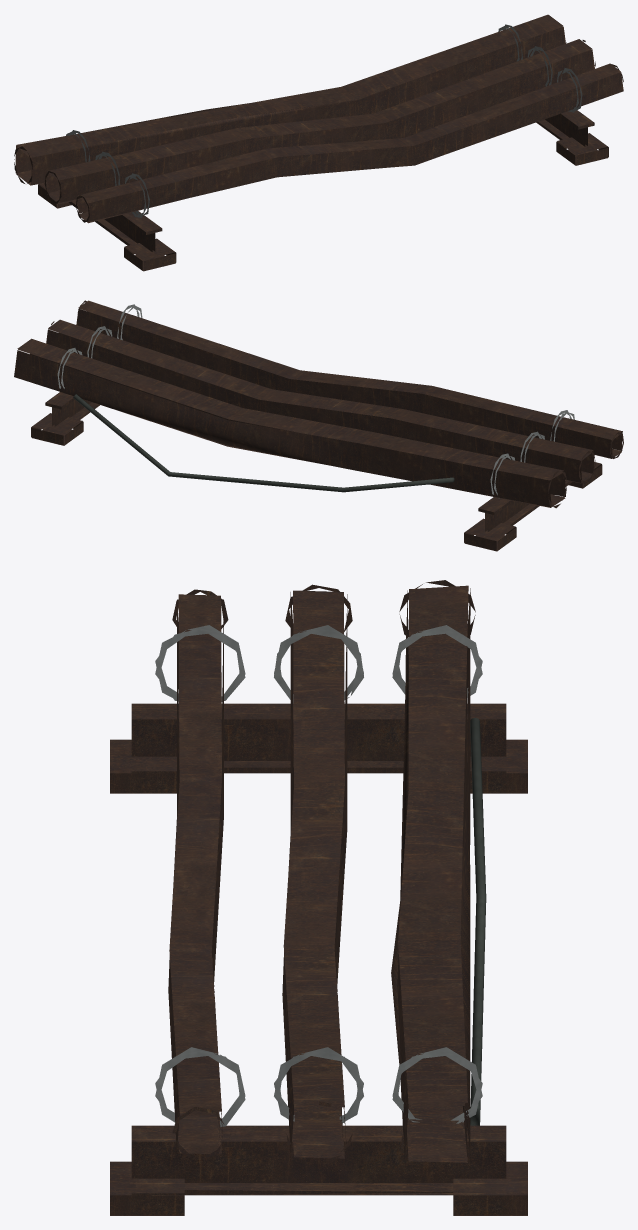
The model's file is lod2_NOT_APPROVED.glb.
The picture shows the model from 3 angles, top to bottom: view 1: azimuth 30°, elevation 25°; view 2: azimuth 150°, elevation 25°; view 3: azimuth 270°, elevation 25°; orthographic projection. The views are drawn at different scales.
Parts seen in each view (by area): view 1: f3_oxidized_iron_surface, f3_bare_worn_steel_surface; view 2: f3_oxidized_iron_surface, f3_aged_rubber_surface, f3_bare_worn_steel_surface; view 3: f3_oxidized_iron_surface, f3_bare_worn_steel_surface, f3_aged_rubber_surface.
Part boxes in pixels (x1,y1,x2,y2): f3_oxidized_iron_surface: (14, 14, 623, 271); f3_bare_worn_steel_surface: (66, 24, 582, 218); f3_oxidized_iron_surface: (14, 300, 623, 551); f3_aged_rubber_surface: (73, 394, 454, 492); f3_bare_worn_steel_surface: (57, 304, 574, 498); f3_oxidized_iron_surface: (110, 580, 527, 1215); f3_bare_worn_steel_surface: (155, 625, 482, 1126); f3_aged_rubber_surface: (470, 717, 486, 1125).
Size of the model in its own units: 3.97 by 0.6609 by 1.35.
3 materials, 3 textured.
